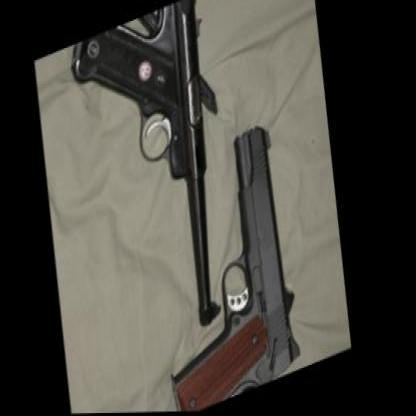pistol: (53, 0, 252, 369), (135, 105, 332, 410)
